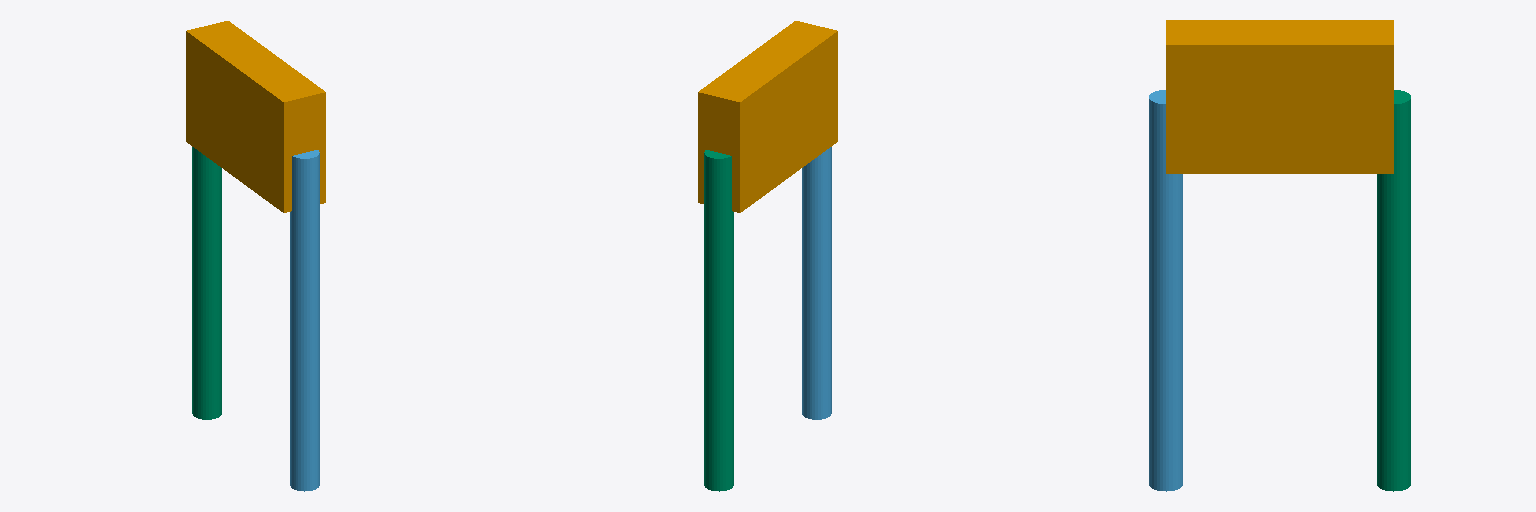
robot.urdf — passive_walker:
<?xml version="1.0" encoding="utf-8"?>
<robot name="passive_walker">
  <link name="root">
    <inertial>
      <origin xyz="0.0 0.0 0.0" rpy="0.0 0.0 0.0"/>
      <mass value="0.5"/>
      <inertia ixx="0.037083333333333336" ixy="0.0" ixz="0.0" iyy="0.012083333333333335" iyz="0.0" izz="0.02833333333333334"/>
    </inertial>
    <visual name="root_visual">
      <origin xyz="0.0 0.0 0.0" rpy="0.0 0.0 0.0"/>
      <geometry>
        <box size="0.2 0.8 0.5"/>
      </geometry>
    </visual>
    <collision name="root_collision">
      <origin xyz="0.0 0.0 0.0" rpy="0.0 0.0 0.0"/>
      <geometry>
        <box size="0.2 0.8 0.5"/>
      </geometry>
    </collision>
  </link>
  <link name="left_leg">
    <inertial>
      <origin xyz="0.0 0.0 -0.75" rpy="0.0 0.0 0.0"/>
      <mass value="0.2"/>
      <inertia ixx="0.037680000000000005" ixy="0.0" ixz="0.0" iyy="0.037680000000000005" iyz="0.0" izz="0.00036"/>
    </inertial>
    <visual name="left_leg_visual">
      <origin xyz="0.0 0.0 -0.75" rpy="0.0 0.0 0.0"/>
      <geometry>
        <cylinder radius="0.06" length="1.5"/>
      </geometry>
    </visual>
    <collision name="left_leg_collision">
      <origin xyz="0.0 0.0 -0.75" rpy="0.0 0.0 0.0"/>
      <geometry>
        <cylinder radius="0.06" length="1.5"/>
      </geometry>
    </collision>
  </link>
  <link name="right_leg">
    <inertial>
      <origin xyz="0.0 0.0 -0.75" rpy="0.0 0.0 0.0"/>
      <mass value="0.2"/>
      <inertia ixx="0.037680000000000005" ixy="0.0" ixz="0.0" iyy="0.037680000000000005" iyz="0.0" izz="0.00036"/>
    </inertial>
    <visual name="right_leg_visual">
      <origin xyz="0.0 0.0 -0.75" rpy="0.0 0.0 0.0"/>
      <geometry>
        <cylinder radius="0.06" length="1.5"/>
      </geometry>
    </visual>
    <collision name="right_leg_collision">
      <origin xyz="0.0 0.0 -0.75" rpy="0.0 0.0 0.0"/>
      <geometry>
        <cylinder radius="0.06" length="1.5"/>
      </geometry>
    </collision>
  </link>
  <link name="left_foot">
    <inertial>
      <origin xyz="0.0 0.0 0.0" rpy="0.0 0.0 0.0"/>
      <mass value="0.5"/>
      <inertia ixx="0.37910792427372064" ixy="2.5547406570745716e-05" ixz="0.0006704452847879228" iyy="0.788029998387879" iyz="-0.021354195549583566" izz="0.4459529083989767"/>
    </inertial>
    <visual name="left_foot_visual">
      <origin xyz="0.0 0.0 0.0" rpy="0.0 0.0 0.0"/>
      <geometry>
        <mesh filename="/mnt/c[local-path]/Documents/programming/dev/element_lower-leg-morphology-optimization/src/passive_walker/Learner/assets/foot_2.obj" scale="0.3 0.3 0.3"/>
      </geometry>
    </visual>
    <collision name="left_foot_collision">
      <origin xyz="0.0 0.0 0.0" rpy="0.0 0.0 0.0"/>
      <geometry>
        <mesh filename="/mnt/c[local-path]/Documents/programming/dev/element_lower-leg-morphology-optimization/src/passive_walker/Learner/assets/foot_2.obj" scale="0.3 0.3 0.3"/>
      </geometry>
    </collision>
  </link>
  <link name="right_foot">
    <inertial>
      <origin xyz="0.0 0.0 0.0" rpy="0.0 0.0 0.0"/>
      <mass value="0.5"/>
      <inertia ixx="0.37910792427372064" ixy="2.5547406570745716e-05" ixz="0.0006704452847879228" iyy="0.788029998387879" iyz="-0.021354195549583566" izz="0.4459529083989767"/>
    </inertial>
    <visual name="right_foot_visual">
      <origin xyz="0.0 0.0 0.0" rpy="0.0 0.0 0.0"/>
      <geometry>
        <mesh filename="/mnt/c[local-path]/Documents/programming/dev/element_lower-leg-morphology-optimization/src/passive_walker/Learner/assets/foot_2.obj" scale="0.3 0.3 0.3"/>
      </geometry>
    </visual>
    <collision name="right_foot_collision">
      <origin xyz="0.0 0.0 0.0" rpy="0.0 0.0 0.0"/>
      <geometry>
        <mesh filename="/mnt/c[local-path]/Documents/programming/dev/element_lower-leg-morphology-optimization/src/passive_walker/Learner/assets/foot_2.obj" scale="0.3 0.3 0.3"/>
      </geometry>
    </collision>
  </link>
  <link name="left_foot_custom_frame">
    <inertial>
      <origin xyz="0 0 0" rpy="0 0 0"/>
      <mass value="0.0"/>
      <inertia ixx="0.0" ixy="0.0" ixz="0.0" iyy="0.0" iyz="0.0" izz="0.0"/>
    </inertial>
  </link>
  <link name="right_foot_custom_frame">
    <inertial>
      <origin xyz="0 0 0" rpy="0 0 0"/>
      <mass value="0.0"/>
      <inertia ixx="0.0" ixy="0.0" ixz="0.0" iyy="0.0" iyz="0.0" izz="0.0"/>
    </inertial>
  </link>
  <joint name="left_hip" type="revolute">
    <origin xyz="0.0 -0.4 0.0" rpy="0.0 0.0 0.0"/>
    <parent link="root"/>
    <child link="left_leg"/>
    <axis xyz="0.0 1.0 0.0"/>
    <dynamics damping="0.0" friction="0.0"/>
    <limit effort="3.4028235e+38" velocity="3.4028235e+38" lower="-0.1096622711232151" upper="0.1096622711232151"/>
  </joint>
  <joint name="right_hip" type="revolute">
    <origin xyz="0.0 0.4 0.0" rpy="0.0 0.0 0.0"/>
    <parent link="root"/>
    <child link="right_leg"/>
    <axis xyz="0.0 1.0 0.0"/>
    <dynamics damping="0.0" friction="0.0"/>
    <limit effort="3.4028235e+38" velocity="3.4028235e+38" lower="-0.5235987755982988" upper="0.5235987755982988"/>
  </joint>
  <joint name="left_ankle" type="fixed">
    <origin xyz="0.0 -0.2 -1.5" rpy="1.5707963267948963 0.0 0.0"/>
    <parent link="left_leg"/>
    <child link="left_foot"/>
  </joint>
  <joint name="right_ankle" type="fixed">
    <origin xyz="0.0 0.2 -1.5" rpy="1.5707963267948963 0.0 3.141592653589793"/>
    <parent link="right_leg"/>
    <child link="right_foot"/>
  </joint>
  <joint name="left_foot_to_left_foot_custom_frame" type="fixed">
    <parent link="left_foot"/>
    <child link="left_foot_custom_frame"/>
    <origin xyz="0.0 -0.49258099999999994 -0.588001" rpy="0.0 0.0 0.0"/>
  </joint>
  <joint name="right_foot_to_right_foot_custom_frame" type="fixed">
    <parent link="right_foot"/>
    <child link="right_foot_custom_frame"/>
    <origin xyz="1.0000000000000002 0.11109600000000008 -1.0" rpy="0.0 0.0 0.0"/>
  </joint>
  <gazebo reference="left_ankle">
    <preserveFixedJoint>true</preserveFixedJoint>
    <disableFixedJointLumping>true</disableFixedJointLumping>
  </gazebo>
  <gazebo reference="right_ankle">
    <preserveFixedJoint>true</preserveFixedJoint>
    <disableFixedJointLumping>true</disableFixedJointLumping>
  </gazebo>
</robot>

--- What the picture shows (computed from the rendered views, not written in the file) ---
3 views of the same robot in one strip: view 1: azimuth 30°, elevation 25°; view 2: azimuth 150°, elevation 25°; view 3: azimuth 270°, elevation 25° (orthographic).
Model passive_walker with 7 links and 6 joints (2 revolute, 4 fixed), rooted at root, posed every joint at zero.
Visible links, largest first — view 1: root, left_leg, right_leg; view 2: root, right_leg, left_leg; view 3: root, left_leg, right_leg.
Link boxes in pixels (x1,y1,x2,y2): root: (186,21,325,212); left_leg: (290,150,319,491); right_leg: (192,147,221,419); root: (698,21,837,212); right_leg: (704,150,733,491); left_leg: (802,147,831,419); root: (1166,20,1393,173); left_leg: (1149,90,1182,491); right_leg: (1377,90,1410,491).
Size in the robot's own frame: 0.2 by 0.92 by 1.75 metres.
Geometry: only primitive shapes (box / cylinder / sphere) drawn; not drawn: 2 mesh visuals (reference in a form the renderer does not follow).